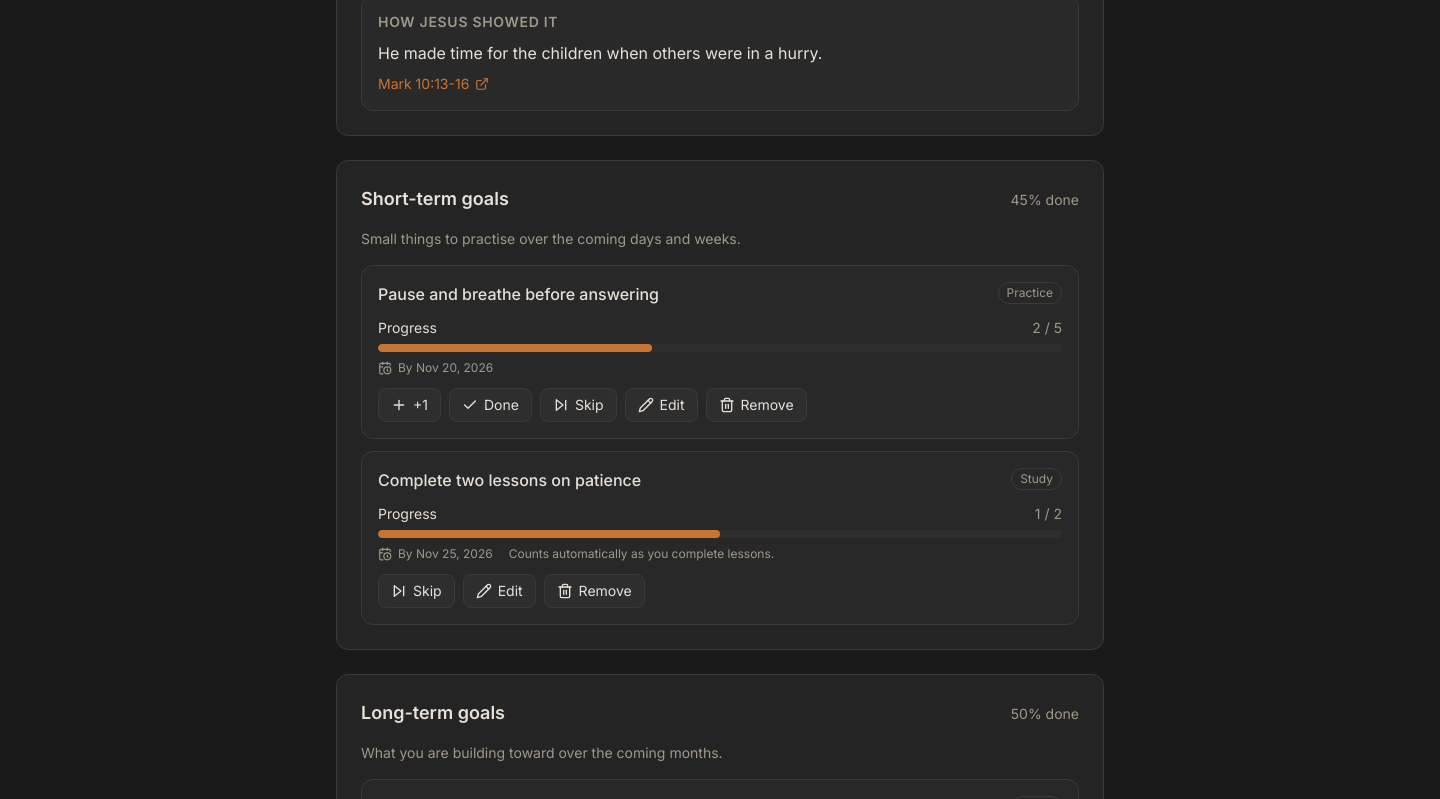
Test case: GrowthPlanPage › marks a goal done, and shows the error when a goal change fails
(page scrolled)
Step 1. Click the button with aria-label "Mark “Pause and breathe before answering” as done" → (490, 405), box top-left (449, 388), bottom-right (532, 422)
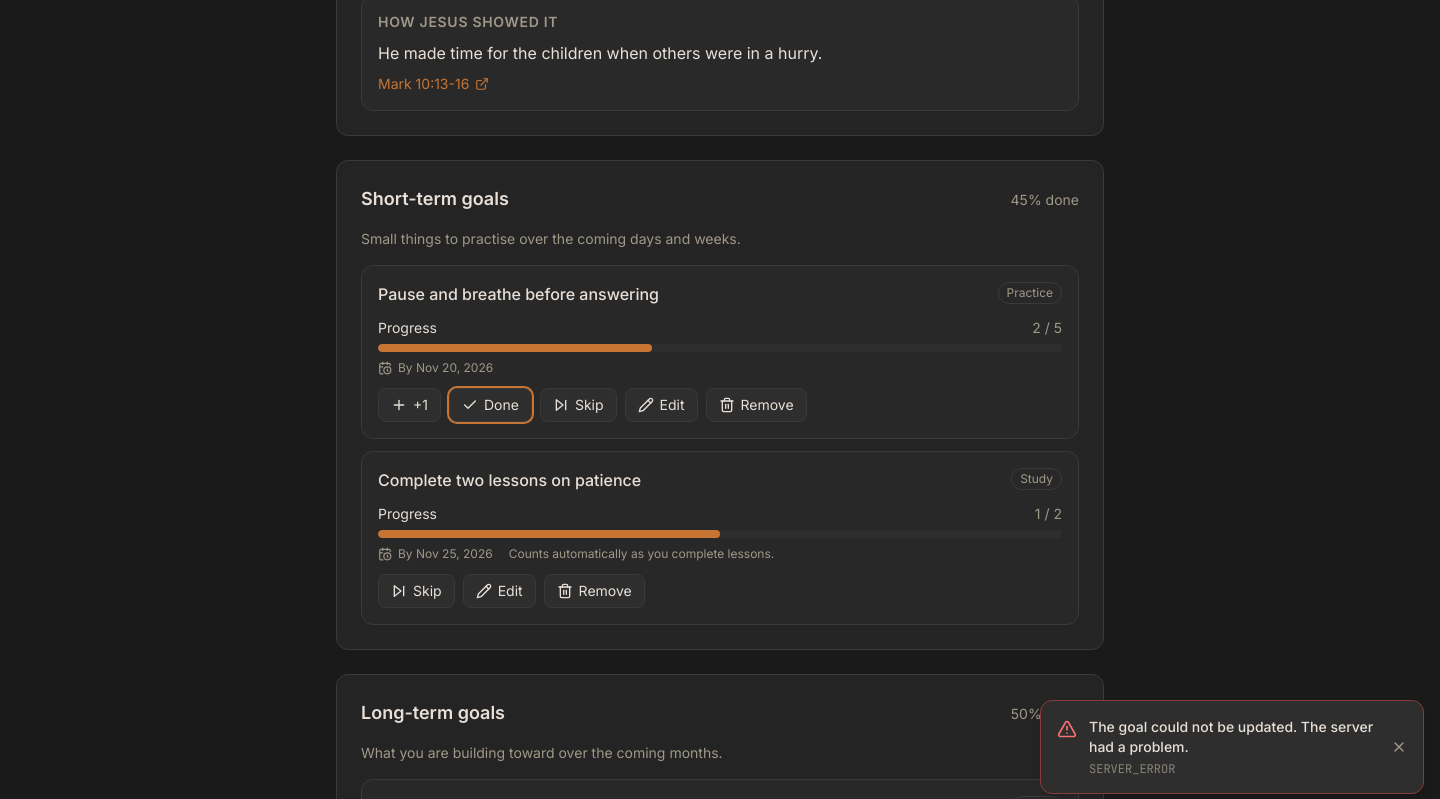
Expected: the message shows "The goal could not be updated.", top-left (1089, 718), bottom-right (1373, 755)
Expected: the message shows "The server had a problem.", top-left (1089, 718), bottom-right (1373, 755)
